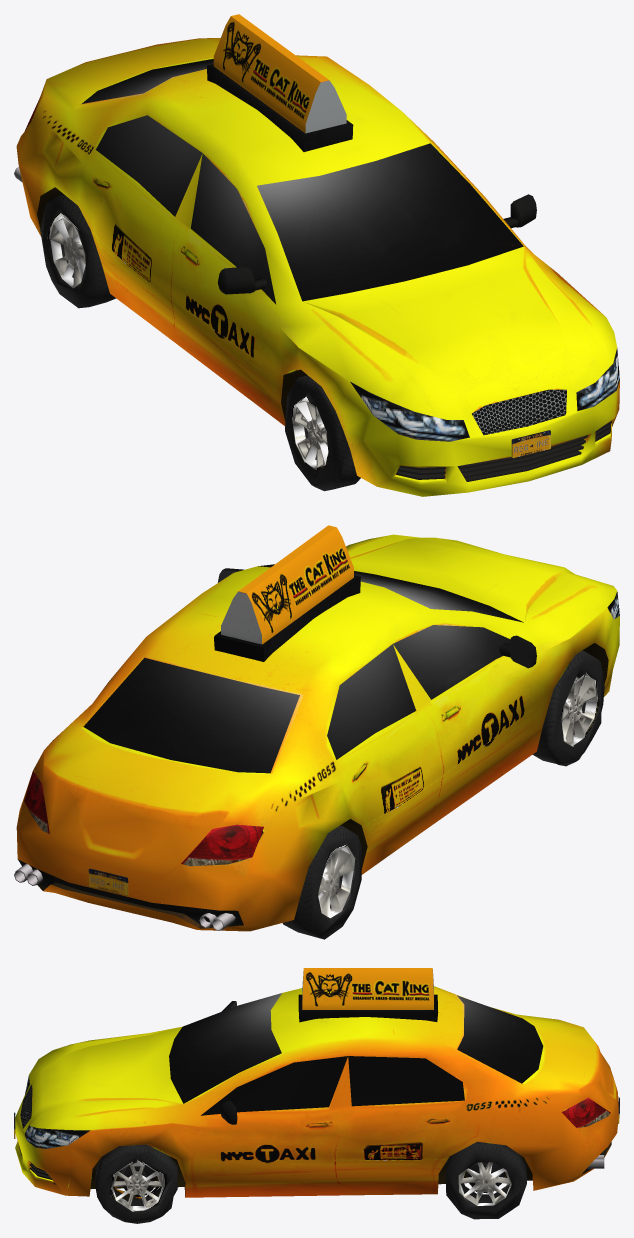
The model's file is wwwunderkammer_Regine_Asset_yellowCab.glb.
3 views of the same model, one above another, from view 1: azimuth 30°, elevation 25°; view 2: azimuth 150°, elevation 25°; view 3: azimuth 270°, elevation 25° (orthographic). The views are drawn at different scales.
Parts seen in each view (by area): view 1: yellowcab28:body, yellowcab28:signboard, yellowcab28:tire4, yellowcab28:tire5, yellowcab28:sidemirror, yellowcab28:pCube5, yellowcab28:pCube4, yellowcab28:numberplate; view 2: yellowcab28:body, yellowcab28:signboard, yellowcab28:tire5, yellowcab28:tire4, yellowcab28:sidemirror, yellowcab28:numberplate2; view 3: yellowcab28:body, yellowcab28:signboard, yellowcab28:tire4, yellowcab28:tire5, yellowcab28:sidemirror.
Boxes of the visible parts, x1,y1,x2,y2 form: yellowcab28:body: (16,38,619,496); yellowcab28:signboard: (207,14,353,151); yellowcab28:tire4: (285,375,360,491); yellowcab28:tire5: (40,194,115,308); yellowcab28:sidemirror: (217,194,536,294); yellowcab28:pCube5: (396,425,611,479); yellowcab28:pCube4: (397,421,611,474); yellowcab28:numberplate: (511,430,550,457); yellowcab28:body: (16,534,619,931); yellowcab28:signboard: (214,525,360,661); yellowcab28:tire5: (282,825,361,939); yellowcab28:tire4: (532,650,604,766); yellowcab28:sidemirror: (218,568,536,668); yellowcab28:numberplate2: (88,868,128,895); yellowcab28:body: (15,986,618,1197); yellowcab28:signboard: (298,968,438,1022); yellowcab28:tire4: (95,1144,177,1223); yellowcab28:tire5: (446,1141,526,1219); yellowcab28:sidemirror: (220,1001,237,1124).
Bounding box in the file's own units: 0.3236 × 0.2836 × 0.7502.
1 material, 1 textured.
